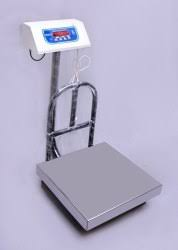Industrial Scale: (19, 17, 165, 233)
